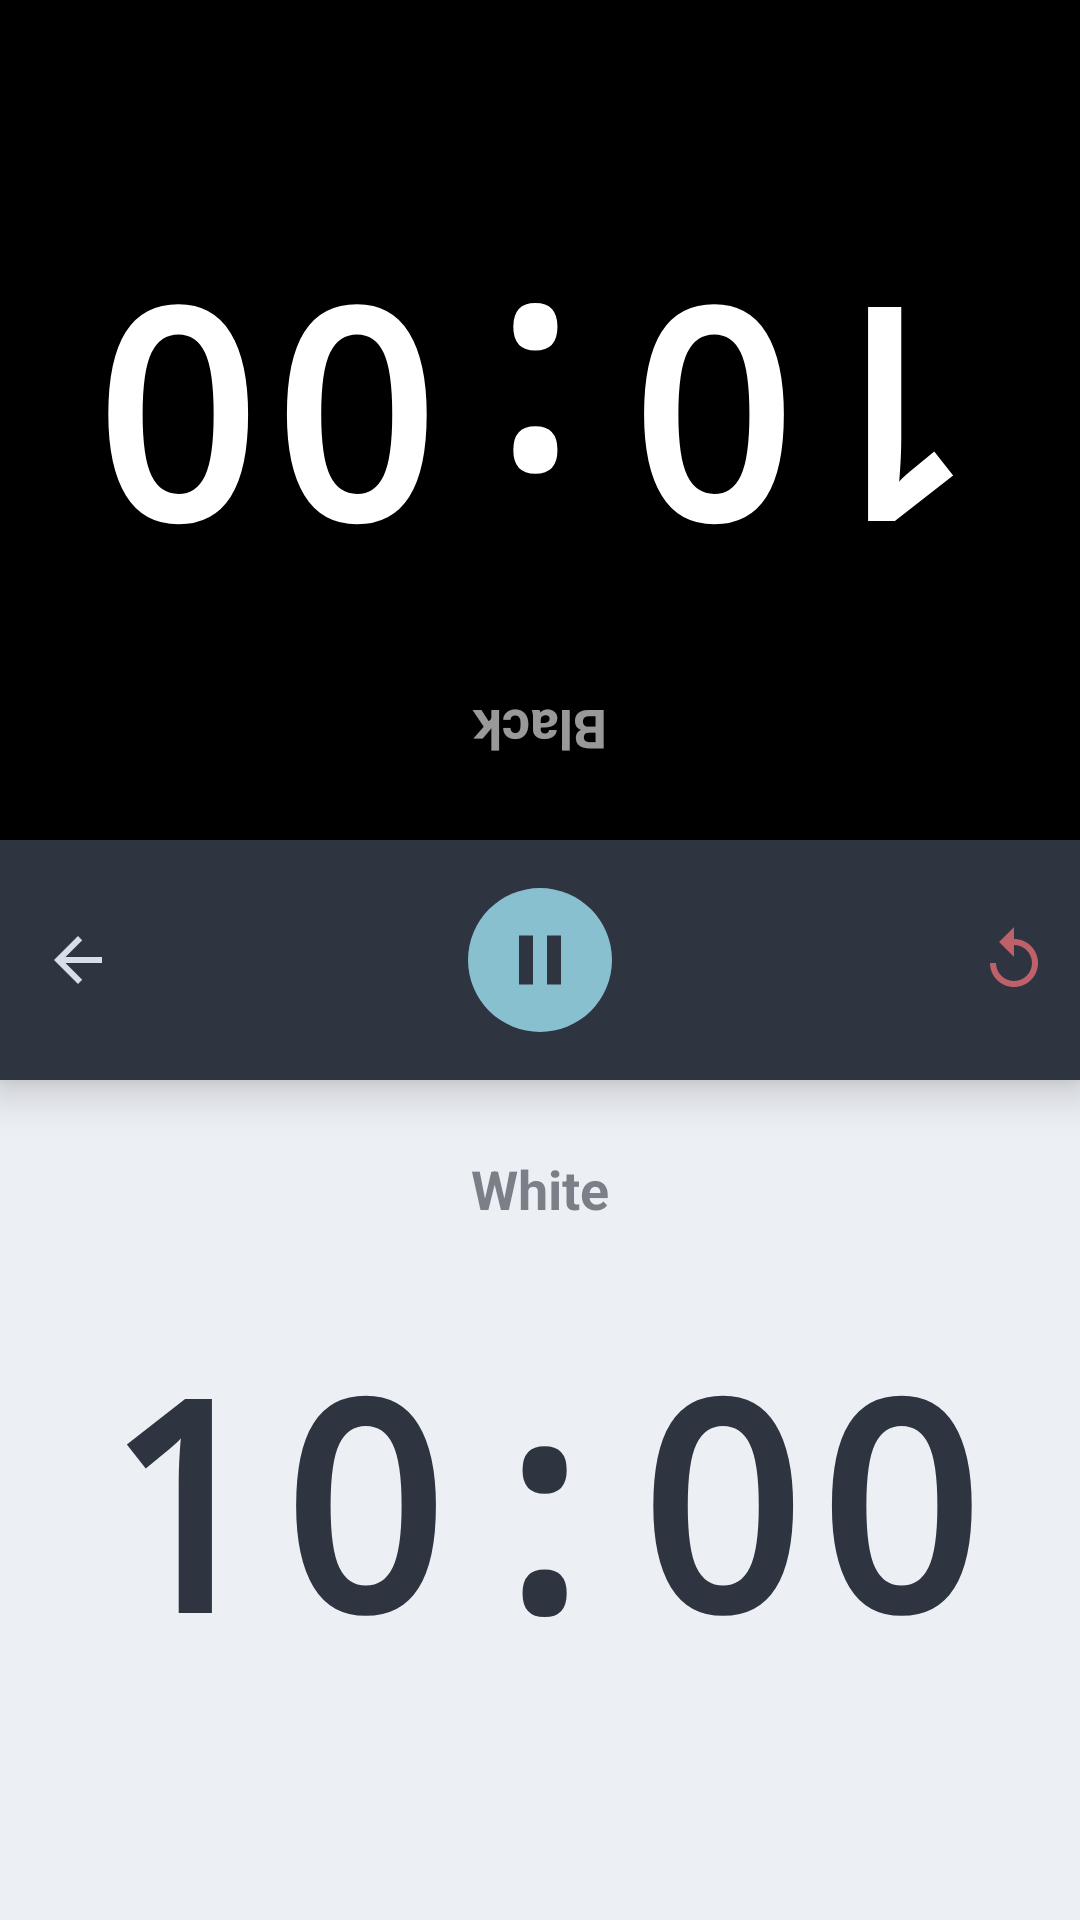

Screen size 1080w x 1920h. Icon name, then its center in pixels as [x,y]:
back: [78,960]
pause: [540,960]
reset: [1014,957]
